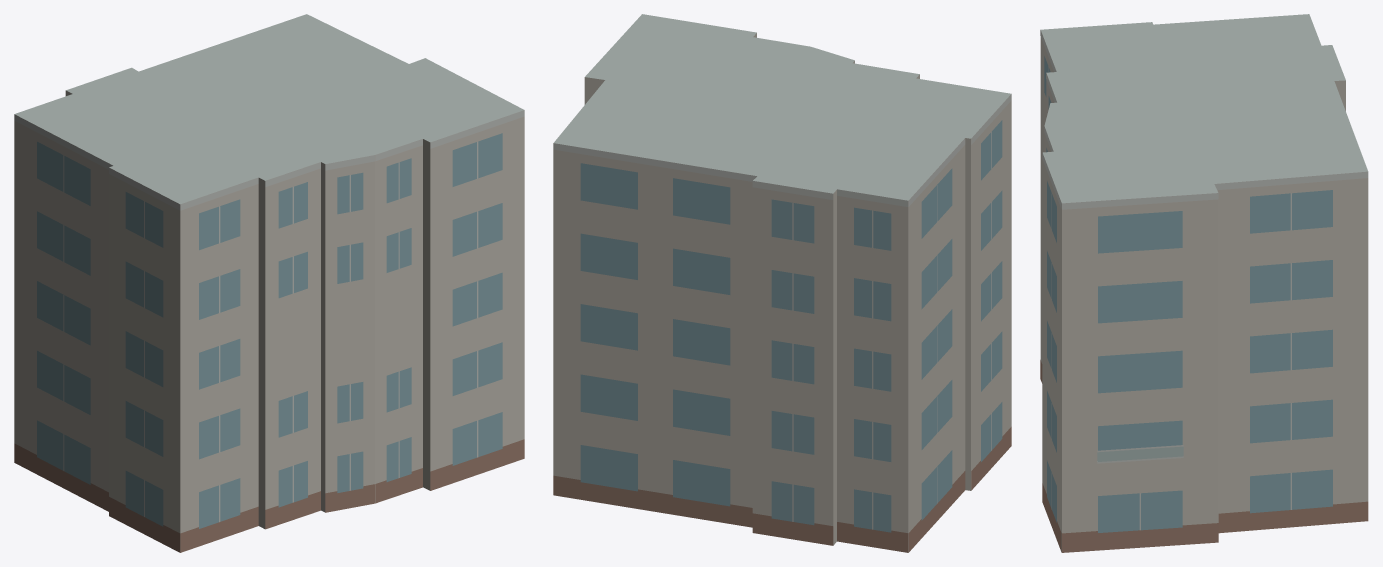
File: survey-upis-32657827.glb
3 renders of one model, left to right at view 1: azimuth 30°, elevation 25°; view 2: azimuth 150°, elevation 25°; view 3: azimuth 270°, elevation 25°, orthographic.
Parts seen in each view (by area): view 1: survey-upis-32657827.tmp; view 2: survey-upis-32657827.tmp; view 3: survey-upis-32657827.tmp.
Part boxes in pixels (x1,y1,x2,y2): survey-upis-32657827.tmp: (14, 14, 524, 552); survey-upis-32657827.tmp: (553, 14, 1011, 552); survey-upis-32657827.tmp: (1040, 14, 1368, 552).
Size of the model in its own units: 15.41 by 13.25 by 11.27.
